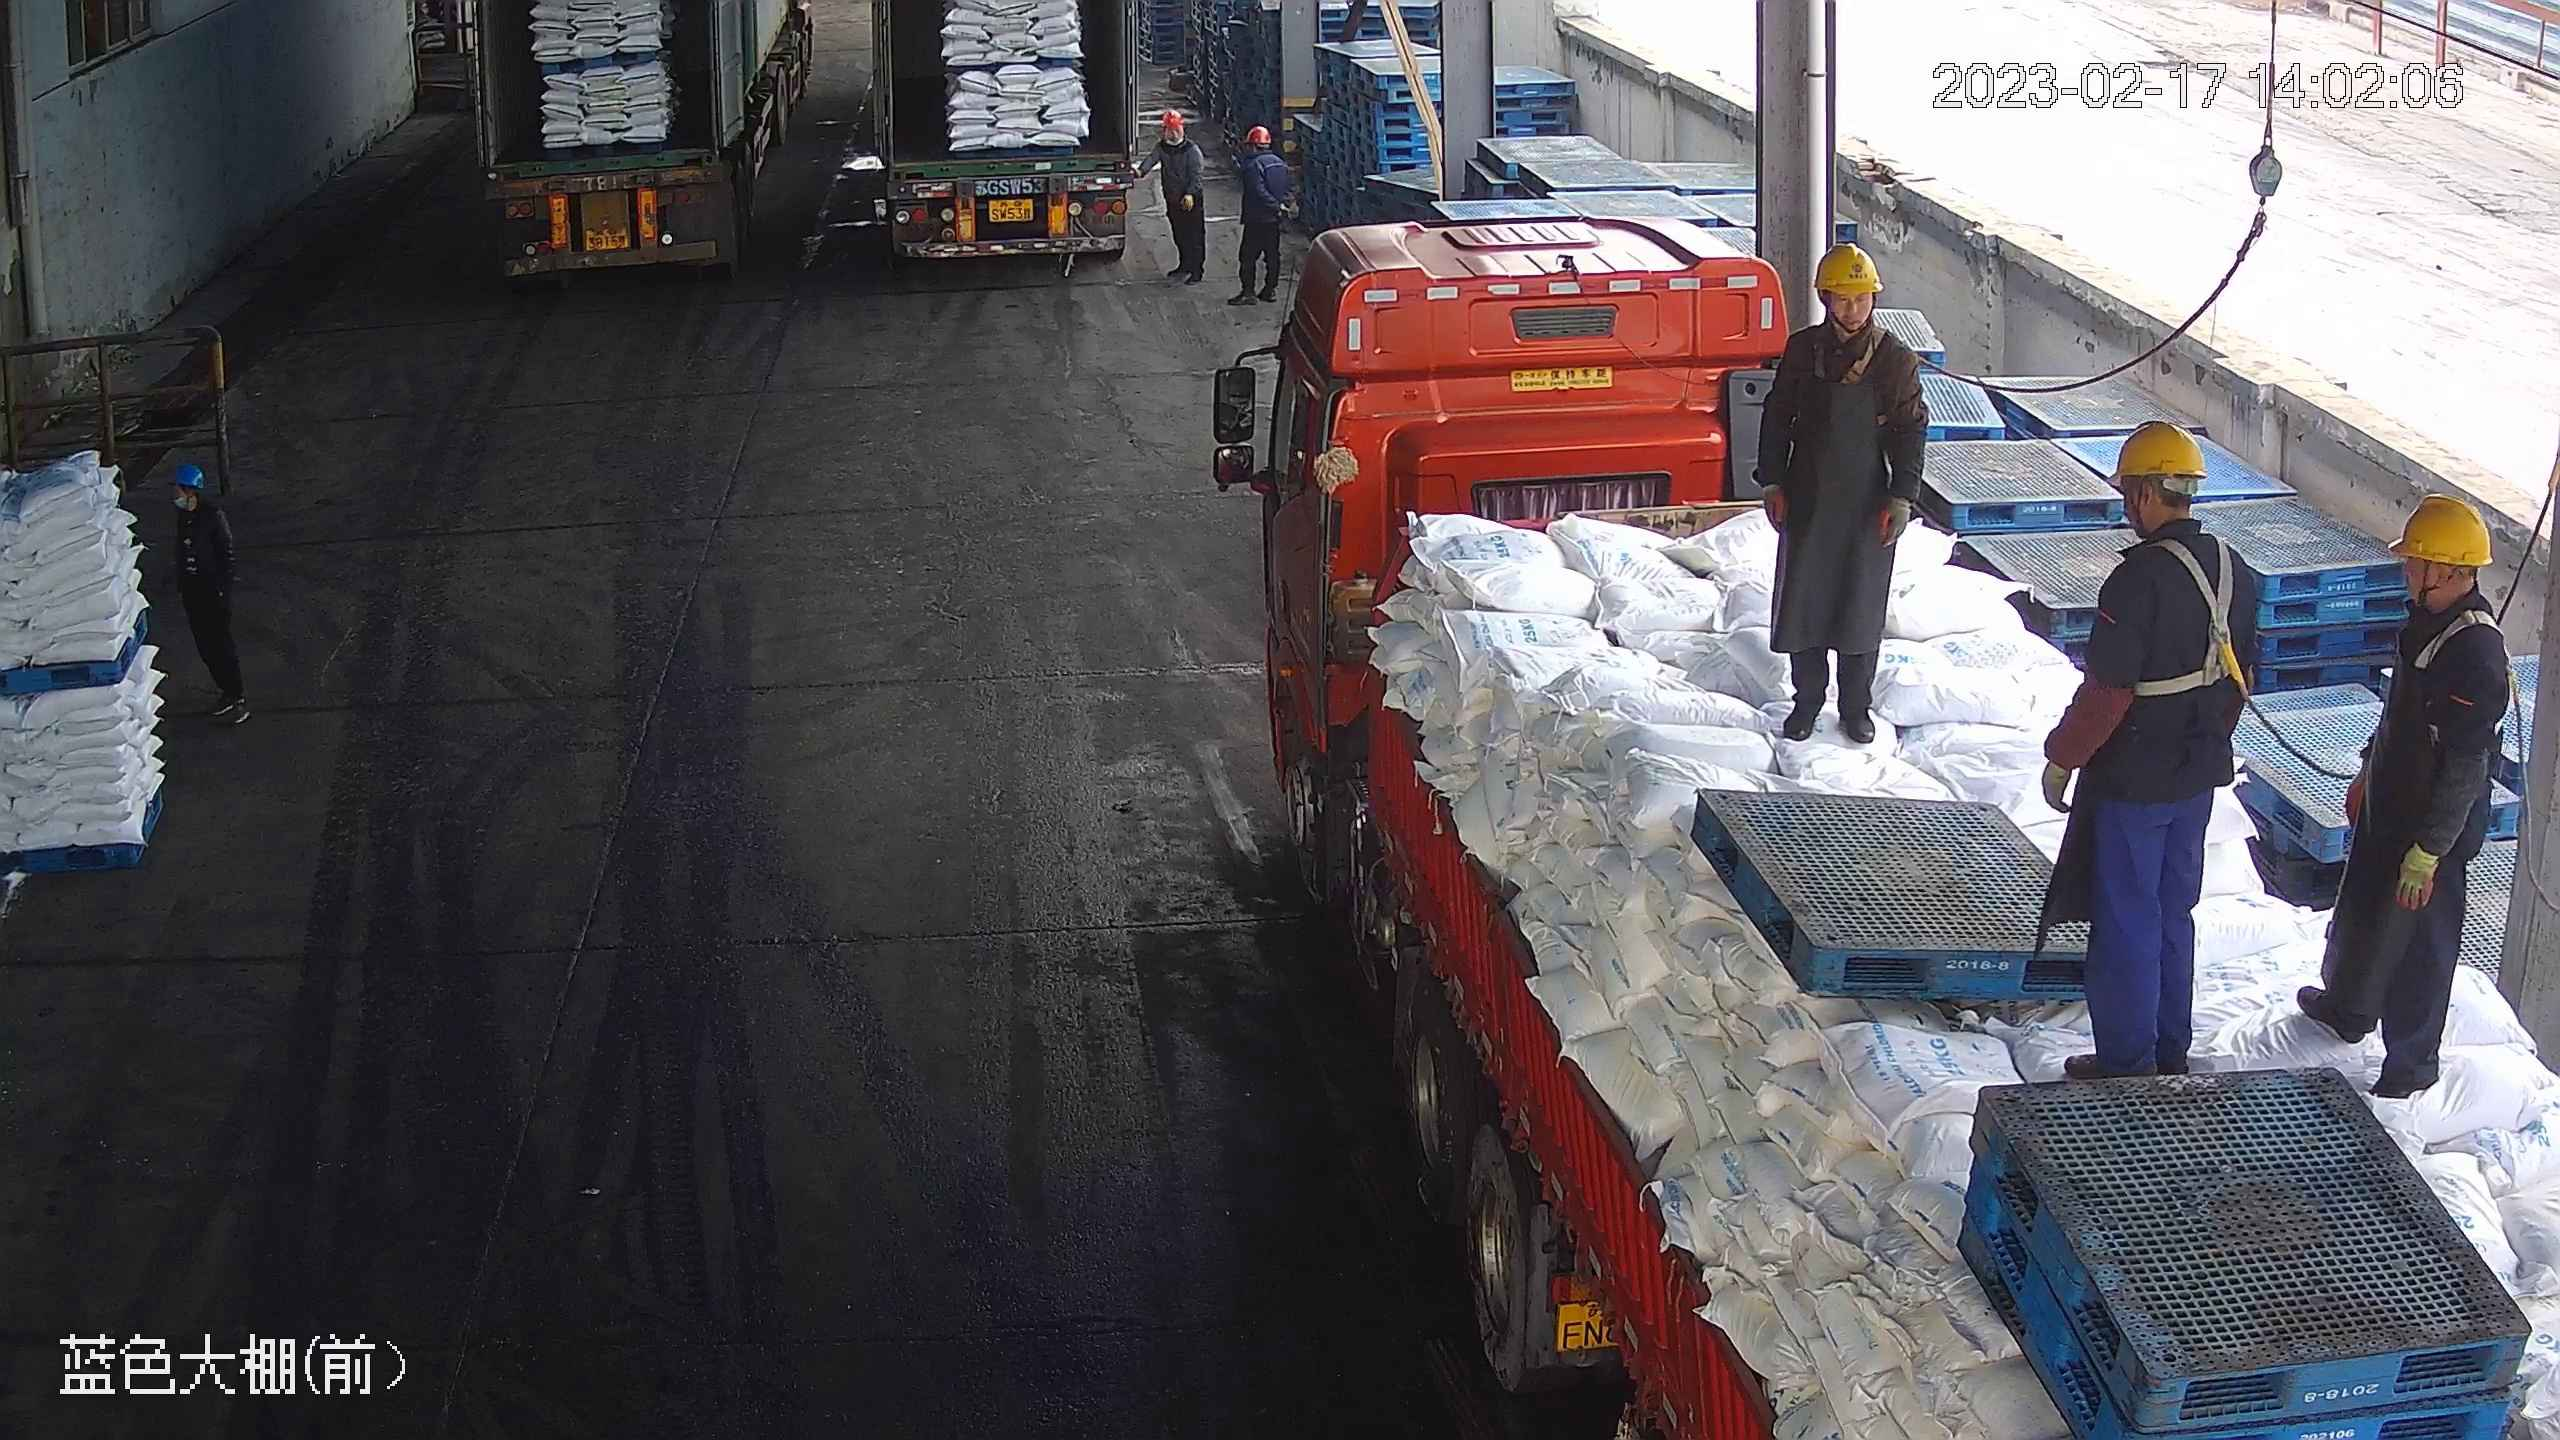belt: (2123, 527, 2255, 698), (2395, 597, 2506, 684), (1818, 317, 1898, 386)
head: (2078, 414, 2265, 616), (2348, 490, 2511, 700), (1768, 241, 1922, 393), (170, 459, 226, 540), (1236, 125, 1287, 178), (1156, 111, 1198, 160)
helmet: (2389, 489, 2498, 565), (2106, 416, 2209, 484), (1812, 241, 1882, 295), (175, 459, 206, 492), (1160, 111, 1186, 132), (1245, 125, 1268, 146)
people: (2037, 413, 2261, 1084), (2300, 488, 2510, 1106), (1752, 239, 1928, 743), (166, 458, 252, 729), (1228, 122, 1290, 305), (1152, 109, 1206, 288)
truck: (1209, 213, 2559, 1438), (475, 1, 816, 283), (865, 1, 1139, 267)
